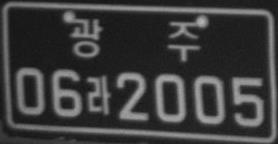0: (192, 71, 227, 128), (152, 71, 189, 124), (13, 66, 46, 116)
2: (115, 70, 150, 122)
5: (230, 74, 266, 129)
6: (49, 67, 84, 119)
광주_D: (66, 16, 202, 63)
라: (85, 73, 113, 118)
